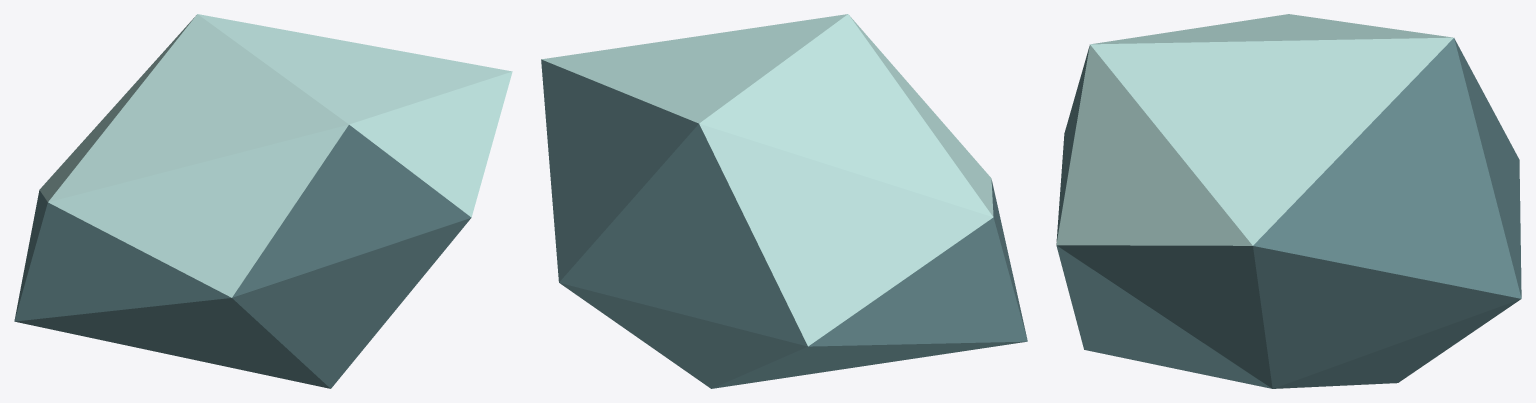
File: rock.glb
3 views of the same model, side by side, from view 1: azimuth 30°, elevation 25°; view 2: azimuth 150°, elevation 25°; view 3: azimuth 270°, elevation 25° (orthographic). The views are drawn at different scales.
Visible parts, largest first — view 1: Rock; view 2: Rock; view 3: Rock.
Boxes of the visible parts, x1,y1,x2,y2 form: Rock: (14, 14, 512, 388); Rock: (541, 14, 1027, 388); Rock: (1056, 14, 1521, 388).
Size of the model in its own units: 0.9845 by 0.5346 by 0.6652.
